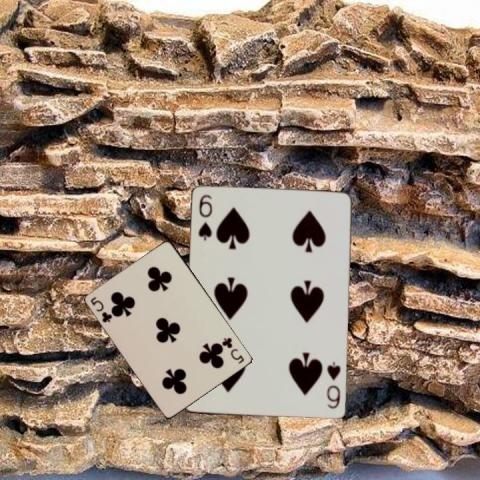5c: (88, 293, 114, 324), (220, 335, 246, 365)
6s: (323, 359, 342, 411), (195, 192, 214, 242)
